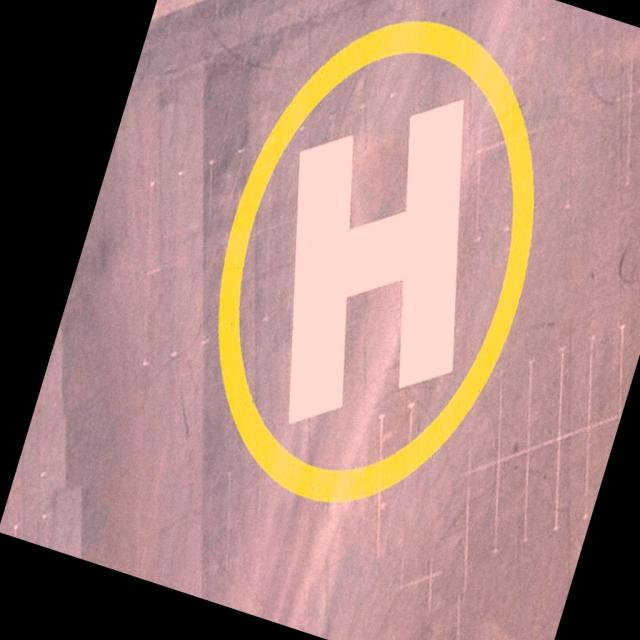helipad: (213, 13, 536, 510)
